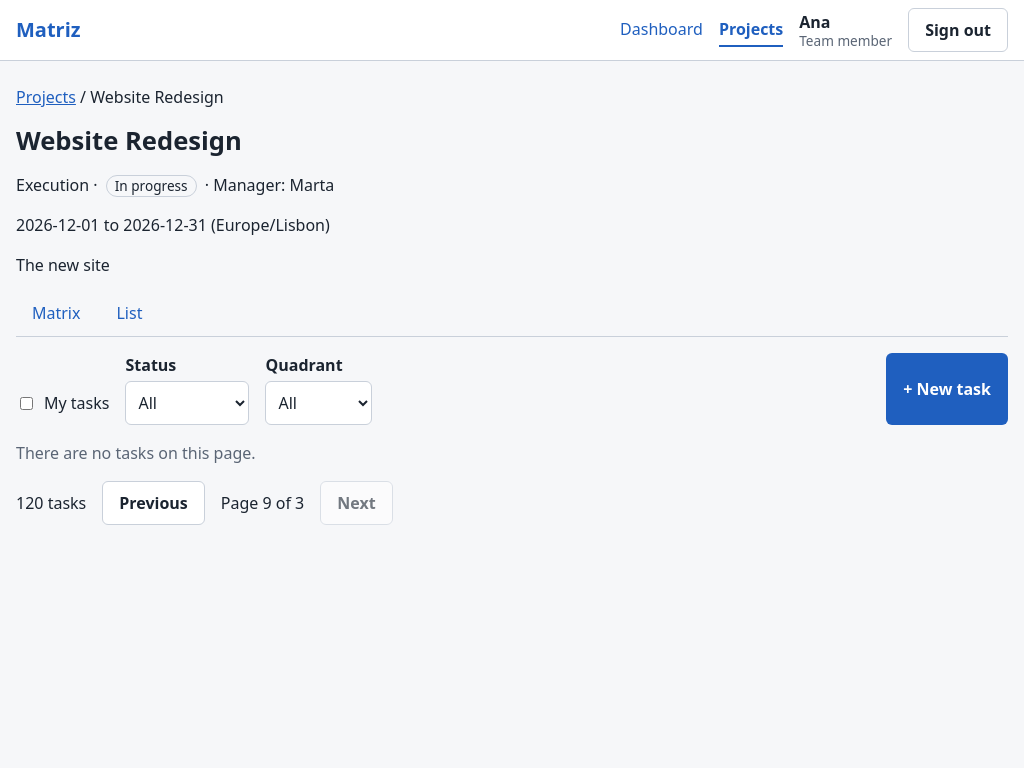
the project and its tasks (F02, F04, F05, F22) › keeps the way back when the page asked is past the last one
Expected: the text "There are no tasks on this page." is shown, x1=16 y1=442 x2=256 y2=464
Expected: the text "120 tasks" is shown, x1=16 y1=491 x2=86 y2=515
Click the button "Previous". click: (154, 503)
box: x1=102 y1=481 x2=205 y2=525
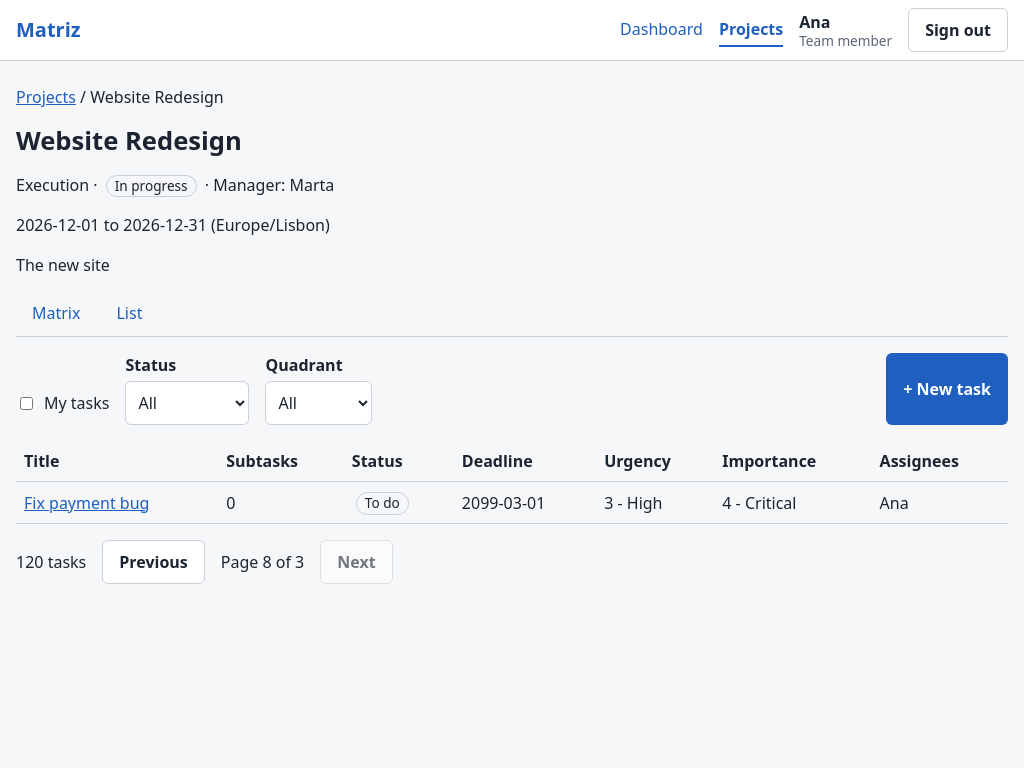
Now the link "Fix payment bug" is shown, box x1=24 y1=492 x2=149 y2=514
